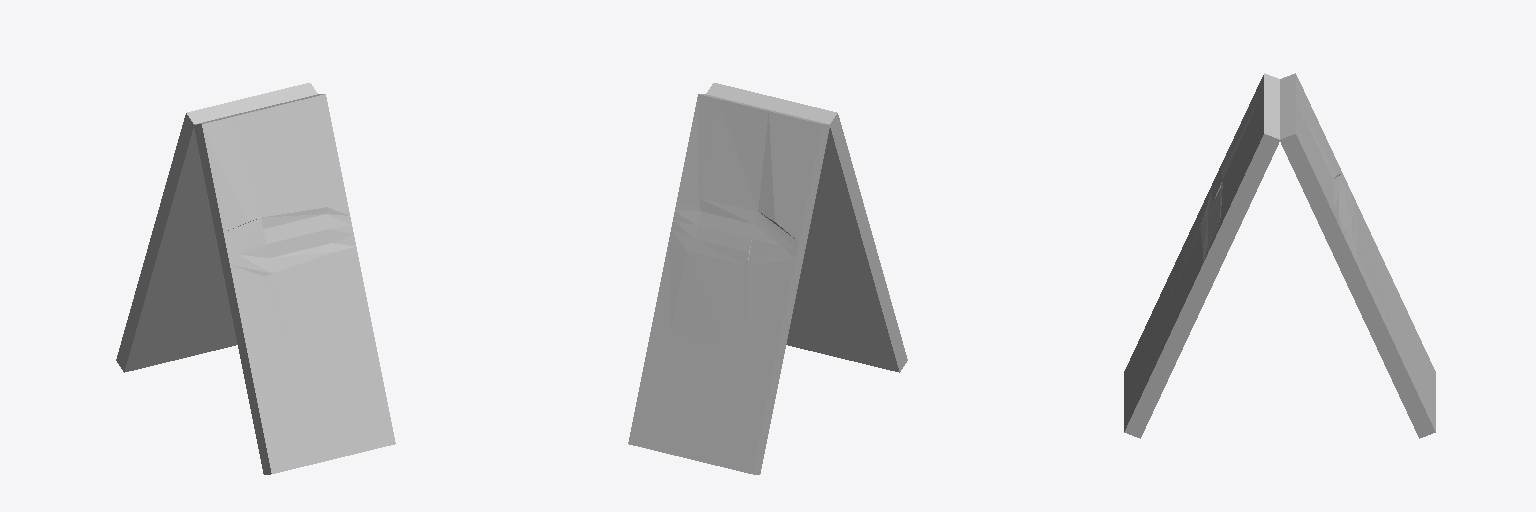
The model's file is ArrowRight.obj.
3 renders of one model, left to right at view 1: azimuth 30°, elevation 25°; view 2: azimuth 150°, elevation 25°; view 3: azimuth 270°, elevation 25°, orthographic.
Parts seen in each view (by area): view 1: Cube_Cube.001; view 2: Cube_Cube.001; view 3: Cube_Cube.001.
Boxes of the visible parts, x1=… form: Cube_Cube.001: x1=116, y1=83, x2=395, y2=474; Cube_Cube.001: x1=628, y1=83, x2=907, y2=474; Cube_Cube.001: x1=1124, y1=73, x2=1435, y2=438.
Size of the model in its own units: 0.8 by 1.88 by 1.74.